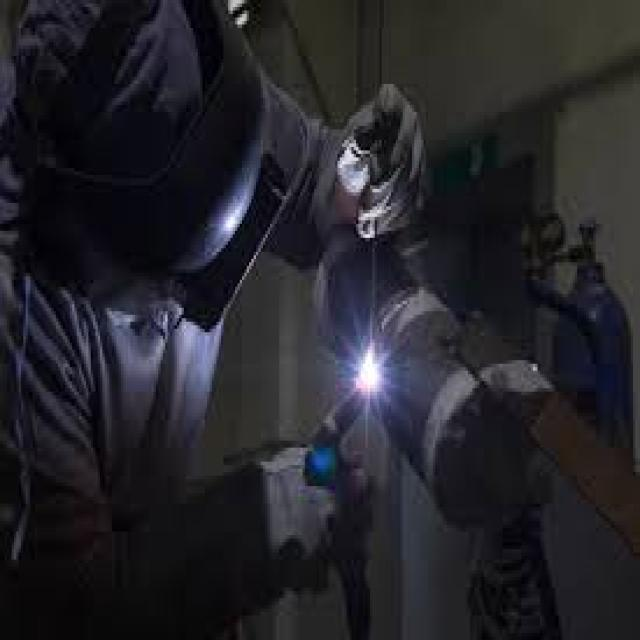welding: (357, 352, 383, 392)
